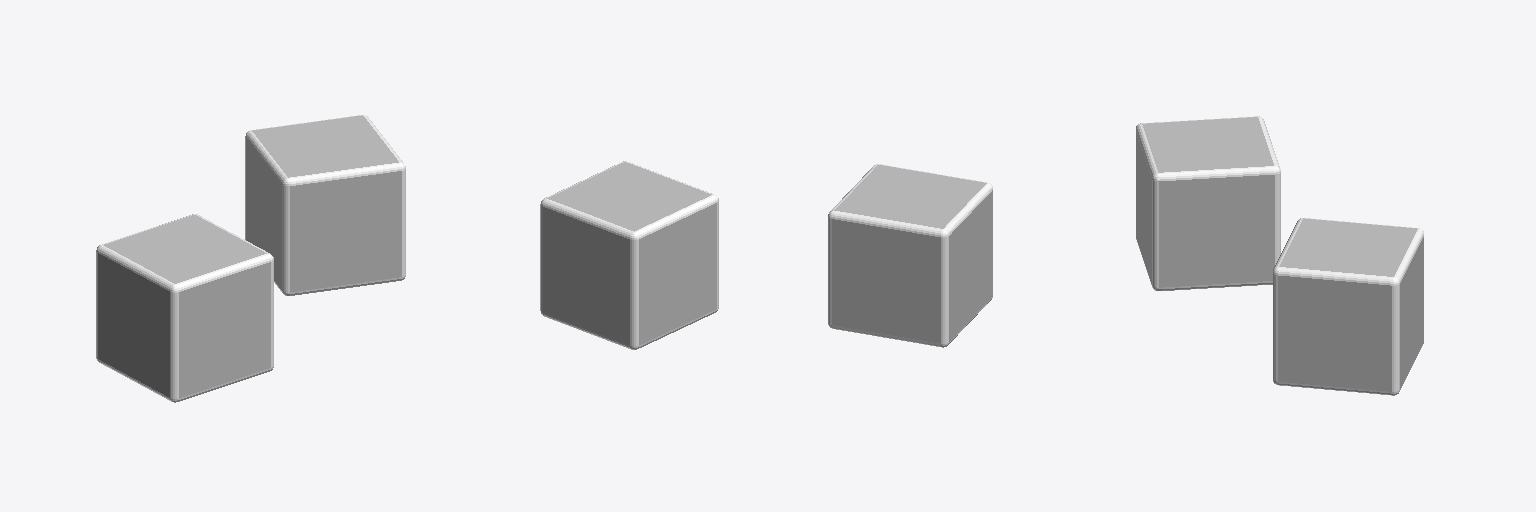
Rendered from dice.obj.
3 views of the same model, side by side, from view 1: azimuth 30°, elevation 25°; view 2: azimuth 150°, elevation 25°; view 3: azimuth 270°, elevation 25° (orthographic).
Visible parts, largest first — view 1: Cube, Cube.1; view 2: Cube.1, Cube; view 3: Cube.1, Cube.
Part boxes in pixels (x1,y1,x2,y2): Cube: (96, 214, 273, 402); Cube.1: (245, 115, 405, 295); Cube.1: (540, 161, 718, 349); Cube: (828, 164, 992, 347); Cube.1: (1273, 218, 1423, 395); Cube: (1136, 116, 1280, 290).
Bounding box in the file's own units: 55.05 × 18.29 × 40.57.